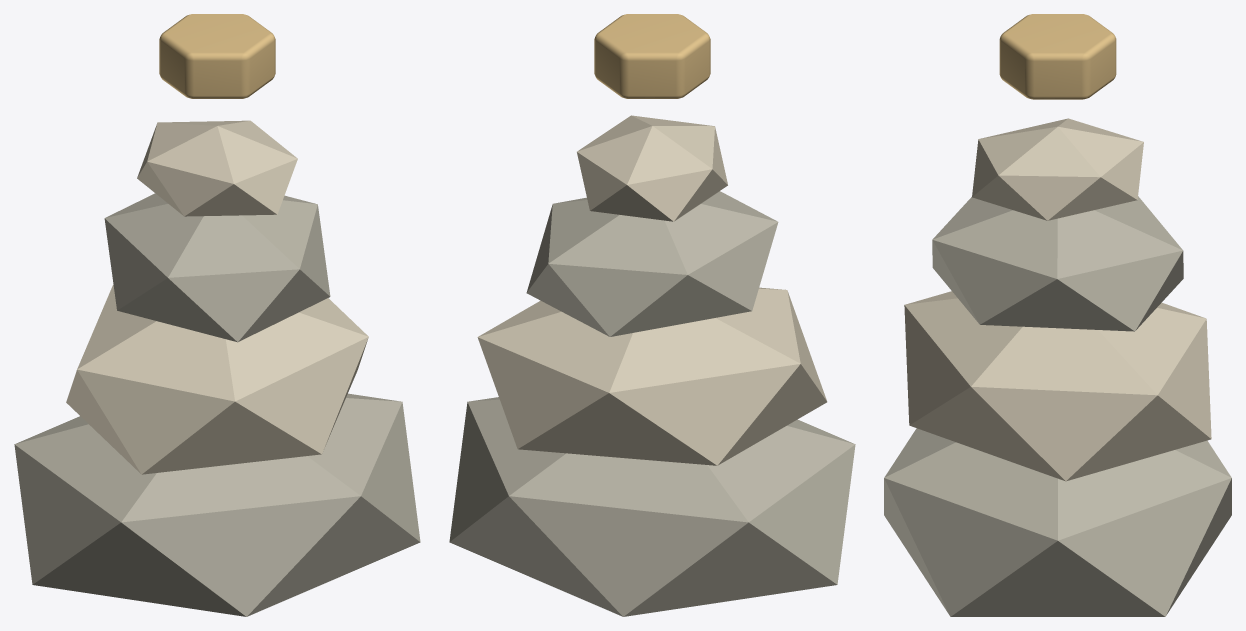
The model's file is SM_Cairn_01.fbx.
3 views of the same model, side by side, from view 1: azimuth 30°, elevation 25°; view 2: azimuth 150°, elevation 25°; view 3: azimuth 270°, elevation 25° (orthographic).
Visible parts, largest first — view 1: SM_Cairn_01; view 2: SM_Cairn_01; view 3: SM_Cairn_01.
Boxes of the visible parts, x1,y1,x2,y2 form: SM_Cairn_01: (14, 14, 420, 616); SM_Cairn_01: (449, 14, 855, 616); SM_Cairn_01: (884, 14, 1231, 616).
Size of the model in its own units: 1 by 1.46 by 0.8098.
